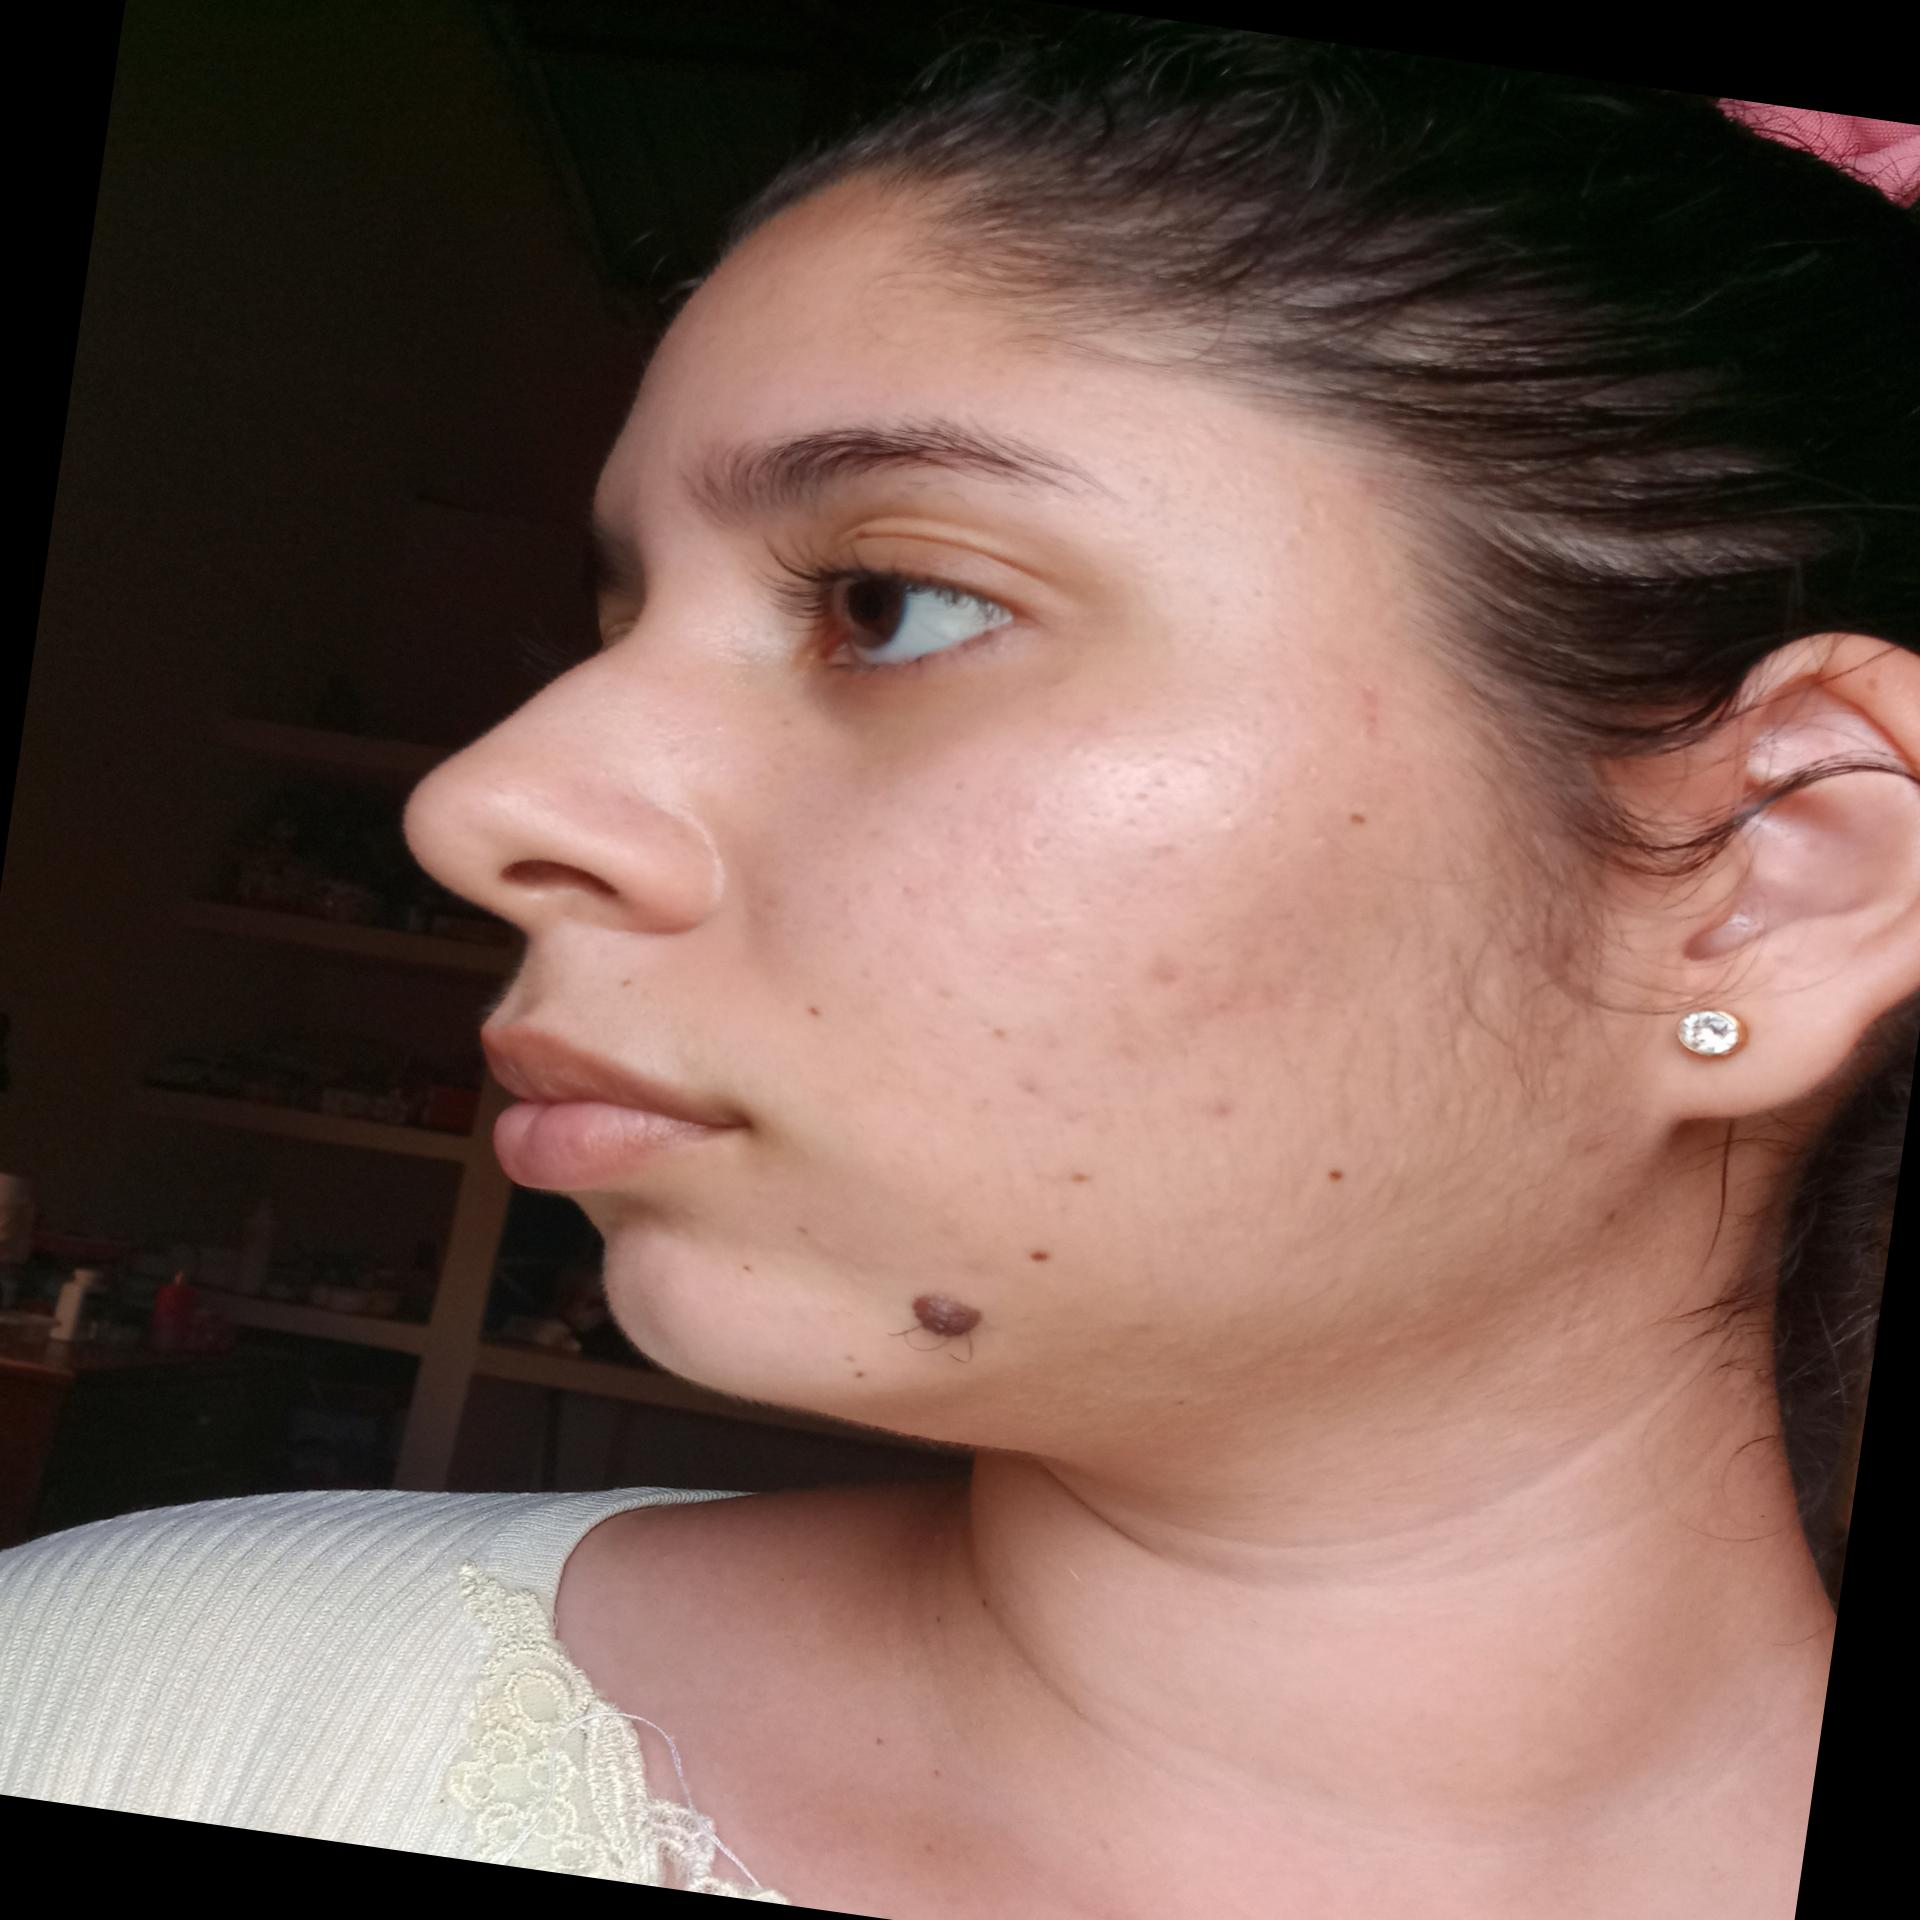Acne: (1004, 1069, 1116, 1141), (1132, 944, 1194, 990), (1203, 1092, 1252, 1132)
Englarged Pores: (944, 695, 1262, 935)
